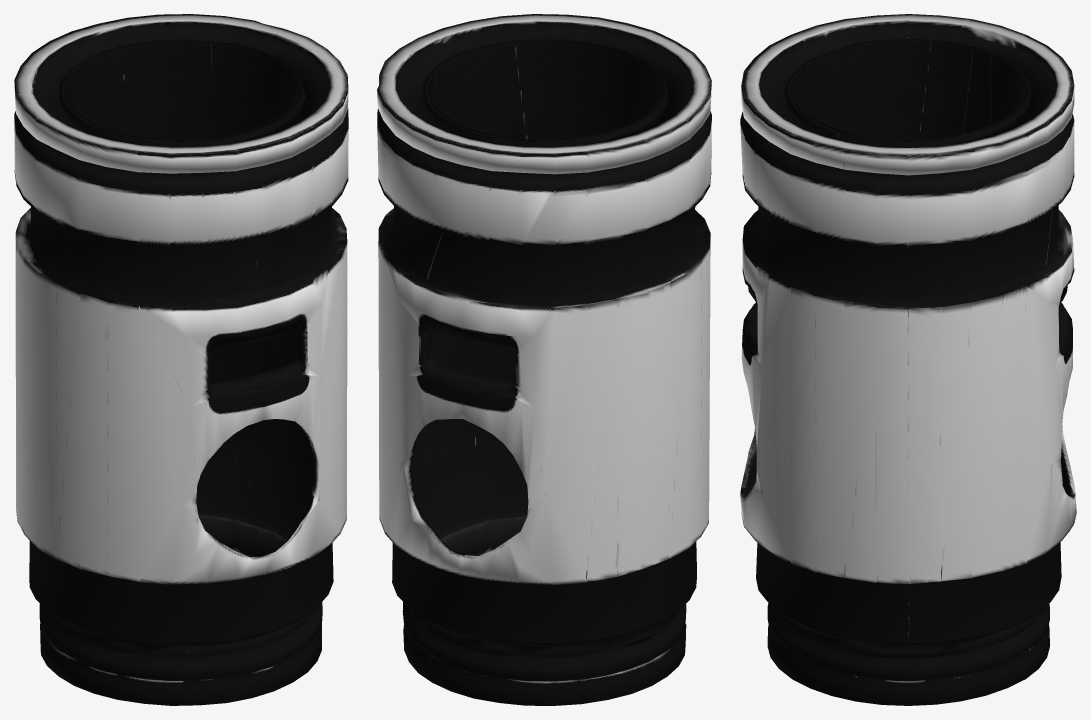
3 views of the same model, side by side, from view 1: azimuth 30°, elevation 25°; view 2: azimuth 150°, elevation 25°; view 3: azimuth 270°, elevation 25° (orthographic).
Visible parts, largest first — view 1: Meshy_AI__0911061600_texture; view 2: Meshy_AI__0911061600_texture; view 3: Meshy_AI__0911061600_texture.
Boxes of the visible parts, x1=… form: Meshy_AI__0911061600_texture: x1=14, y1=14, x2=348, y2=705; Meshy_AI__0911061600_texture: x1=377, y1=14, x2=711, y2=705; Meshy_AI__0911061600_texture: x1=740, y1=14, x2=1076, y2=705.
Bounding box in the file's own units: 0.541 × 1 × 0.543.
1 material, 1 textured.
